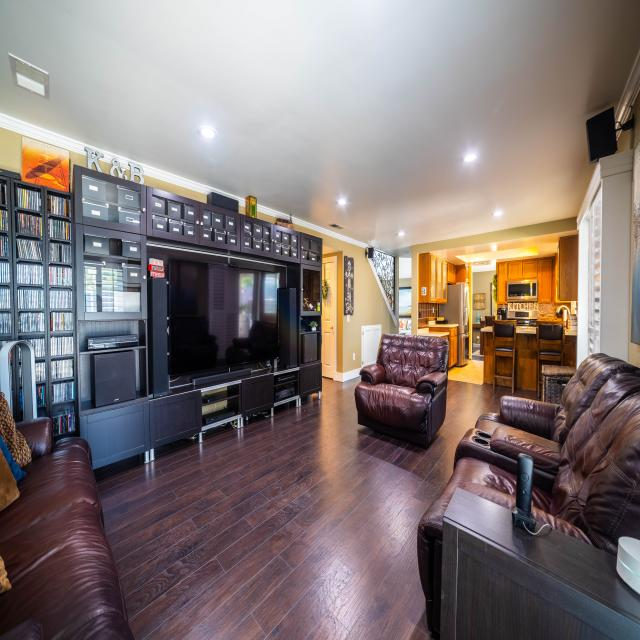floor: (93, 376, 542, 640), (471, 355, 484, 361), (472, 347, 480, 354)
wall: (411, 216, 578, 335), (293, 223, 399, 374), (600, 170, 633, 364), (0, 127, 88, 193), (496, 256, 556, 304), (322, 251, 343, 374), (142, 174, 207, 204), (430, 253, 456, 304), (472, 270, 496, 324), (560, 234, 579, 301), (344, 255, 354, 322), (536, 303, 571, 321), (418, 253, 430, 303), (257, 211, 278, 224), (97, 160, 113, 175), (122, 169, 130, 180), (239, 205, 246, 215), (92, 163, 97, 171), (134, 176, 140, 182), (114, 169, 118, 177), (118, 167, 122, 174)
